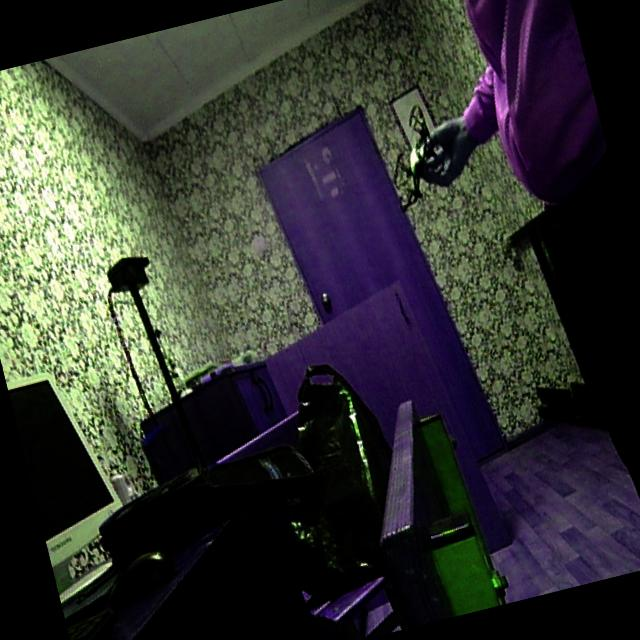drone: (366, 98, 466, 217)
